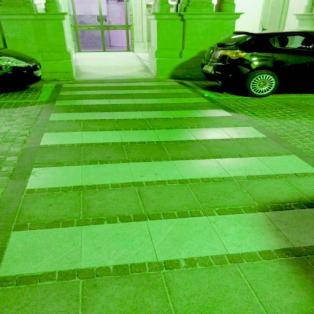Paso de Cebra: (0, 152, 314, 291), (31, 106, 275, 147)
